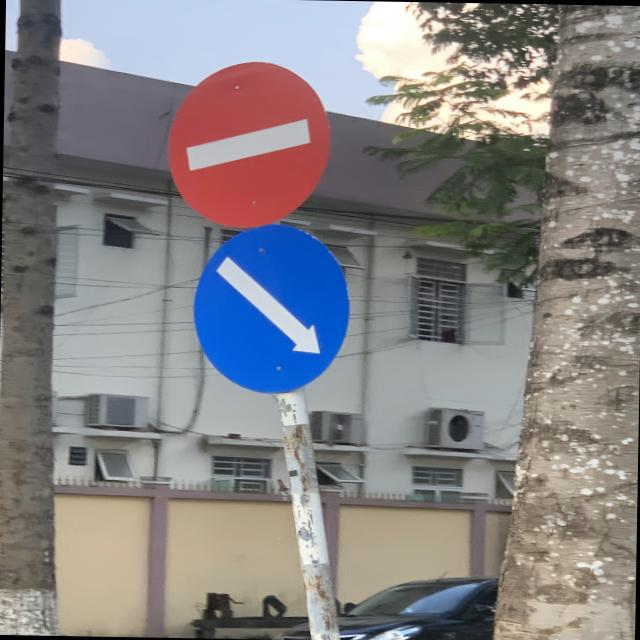Cam_Di_Nguoc_Chieu: (164, 58, 330, 226)
Chi_Huong_Di_Phai: (192, 223, 352, 394)
